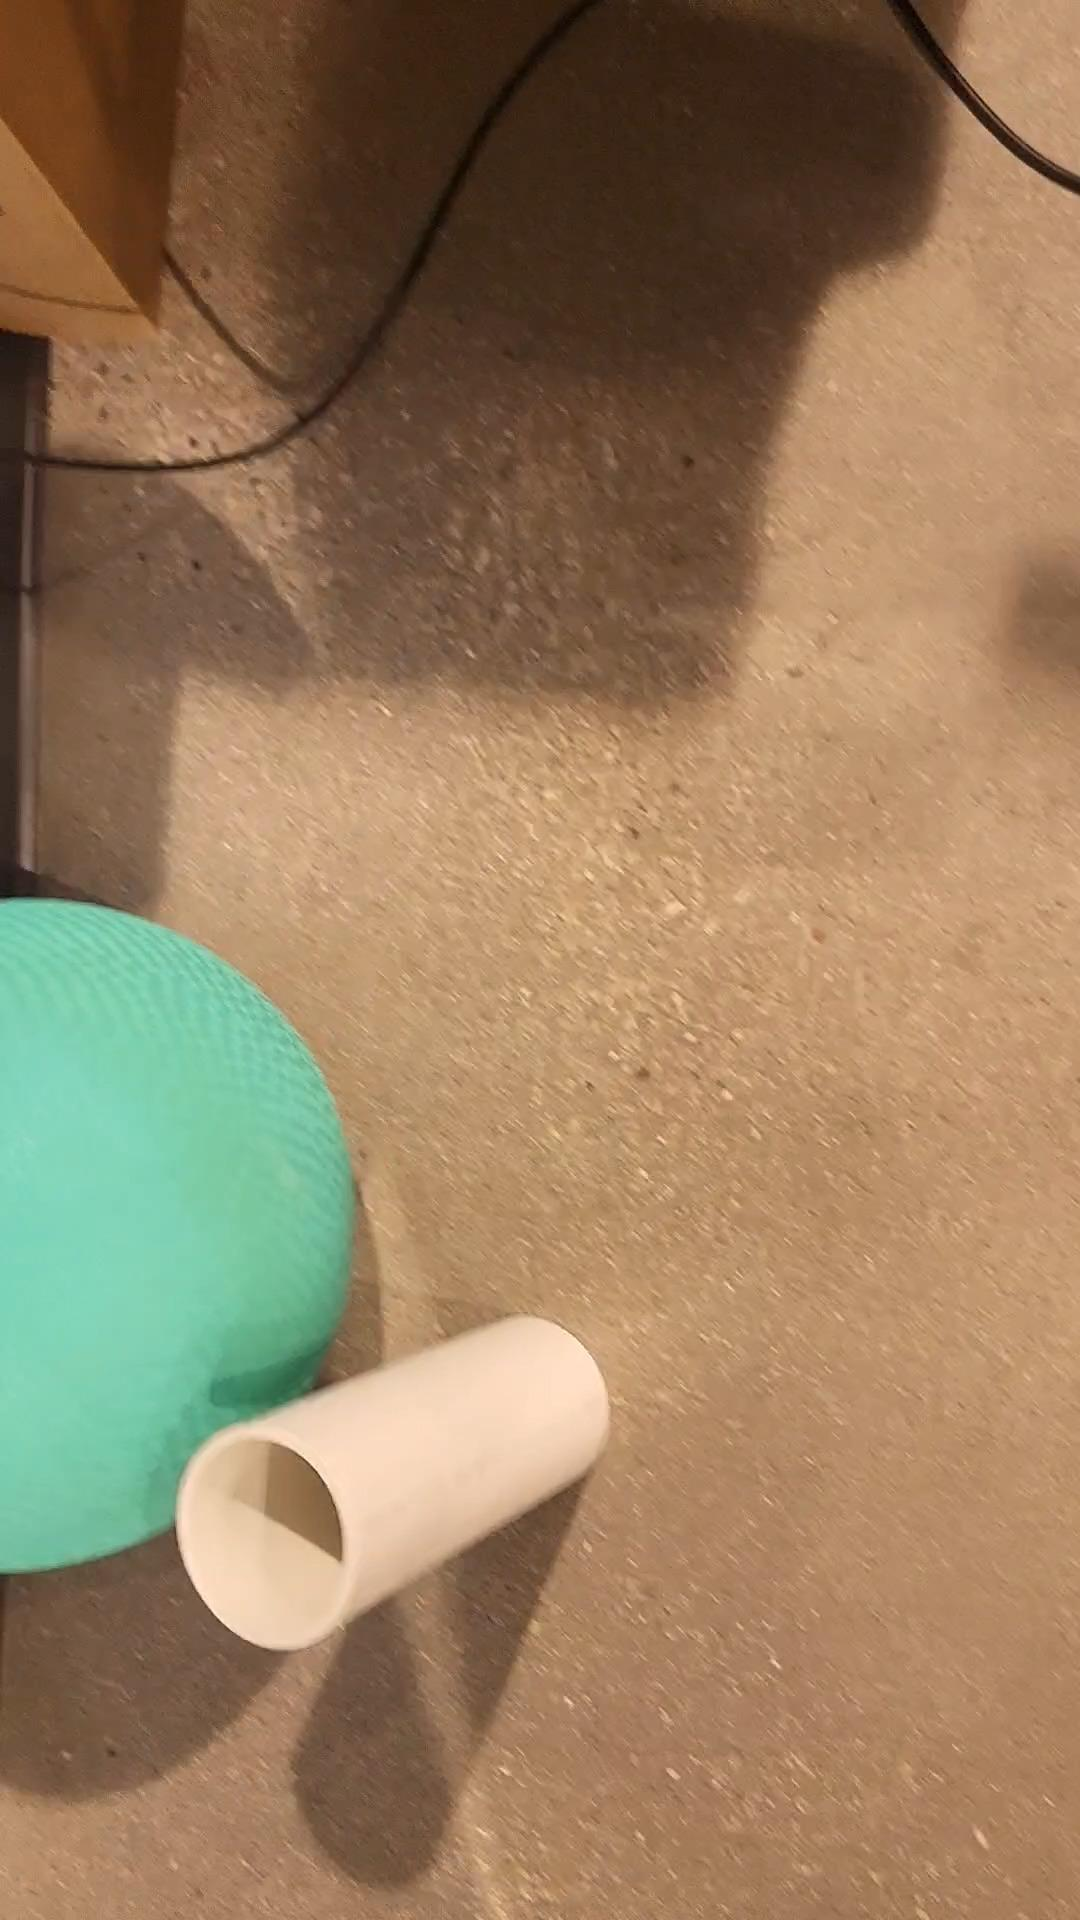algae: (0, 898, 357, 1572)
coral: (182, 1312, 605, 1643)
